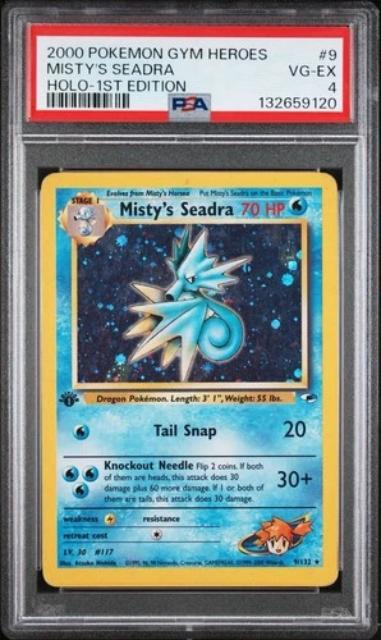Card: (35, 166, 345, 593)
Name: (113, 197, 237, 223)
